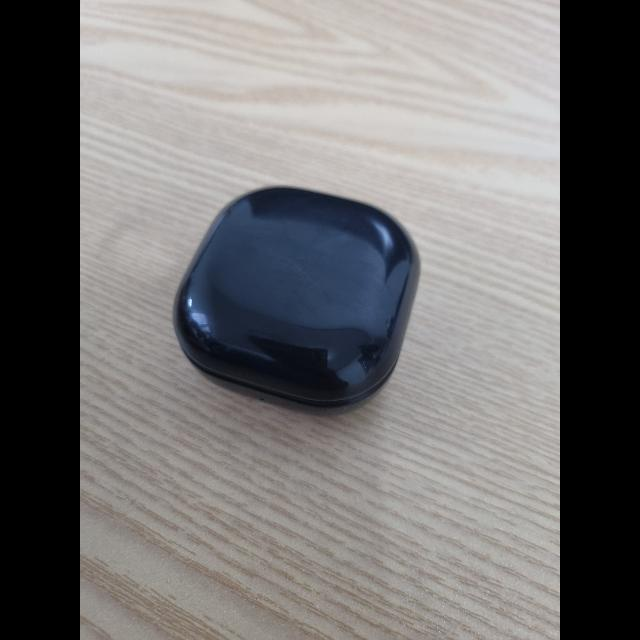buds_live: (174, 182, 420, 416)
